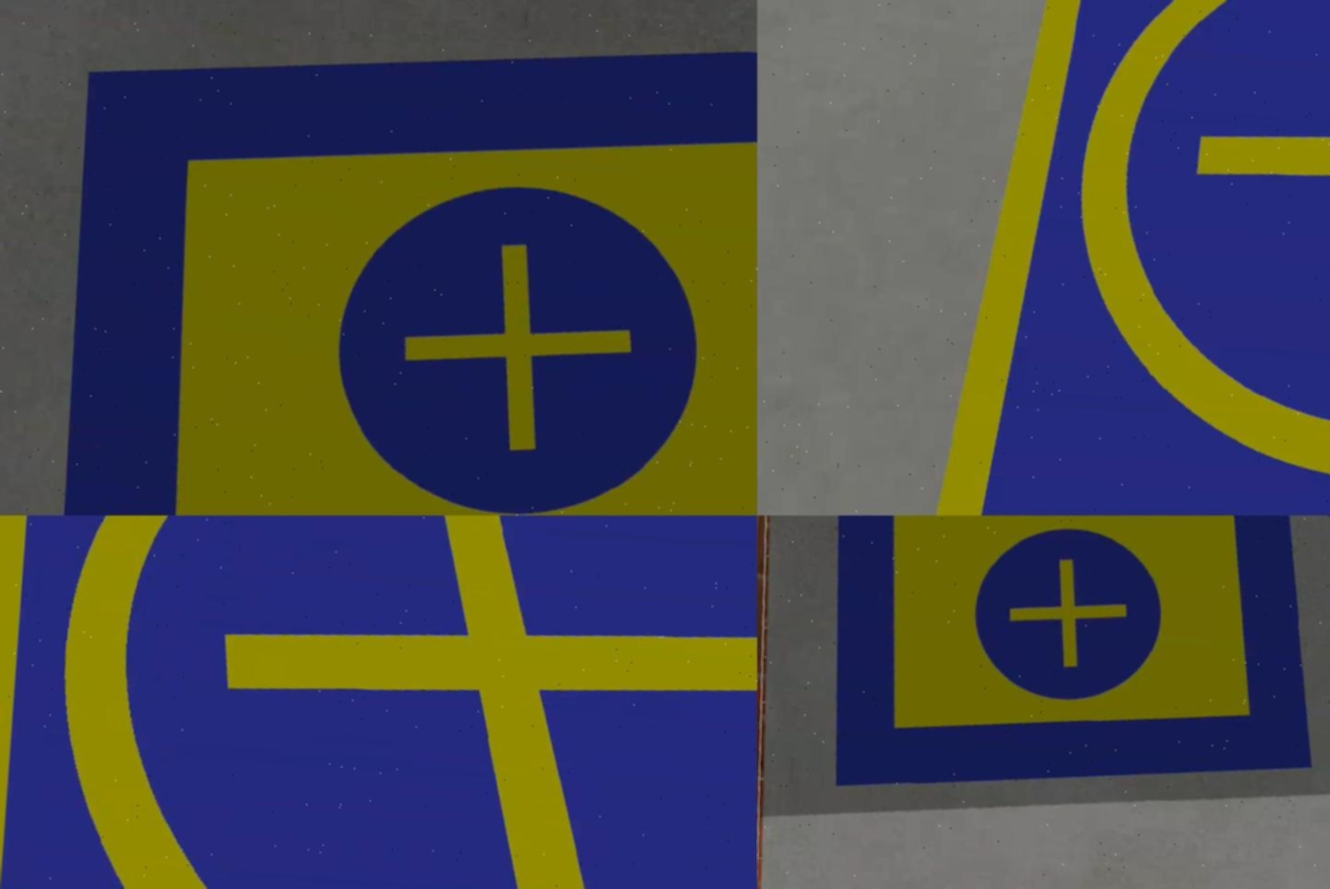large_base: (42, 1, 757, 516), (815, 516, 1330, 821)
small_base: (1, 516, 757, 889), (911, 1, 1330, 516)
